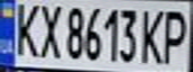1: (100, 3, 121, 63)
3: (118, 4, 142, 64)
6: (81, 2, 103, 61)
8: (60, 2, 84, 61)
K: (6, 0, 42, 57), (136, 6, 169, 65)
P: (157, 6, 193, 65)
X: (33, 1, 63, 60)
